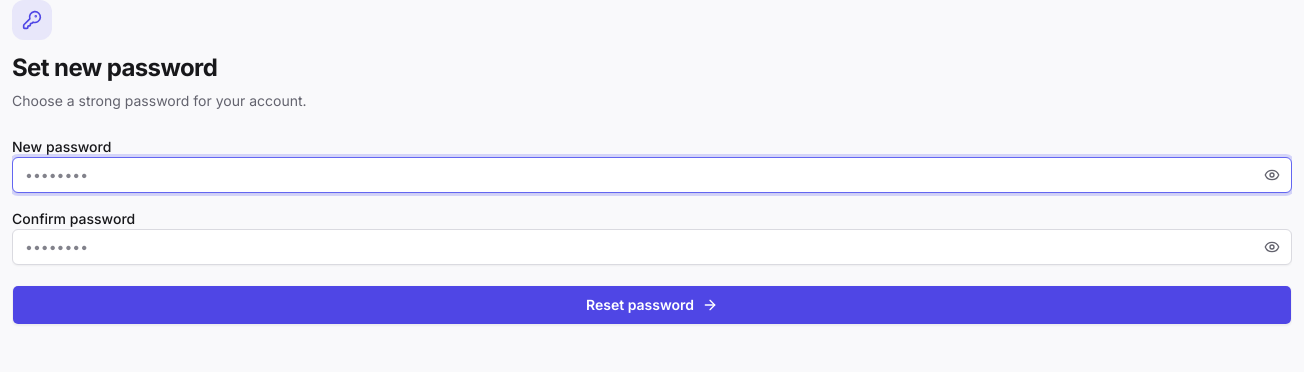
it: ForgotPasswordResetStep Component › should show strength indicator as password is typed
The image size is (1304, 372).
Type "P" into the password field labelled "New password".
click(652, 175); type("P")  # box [12,157,1292,193]
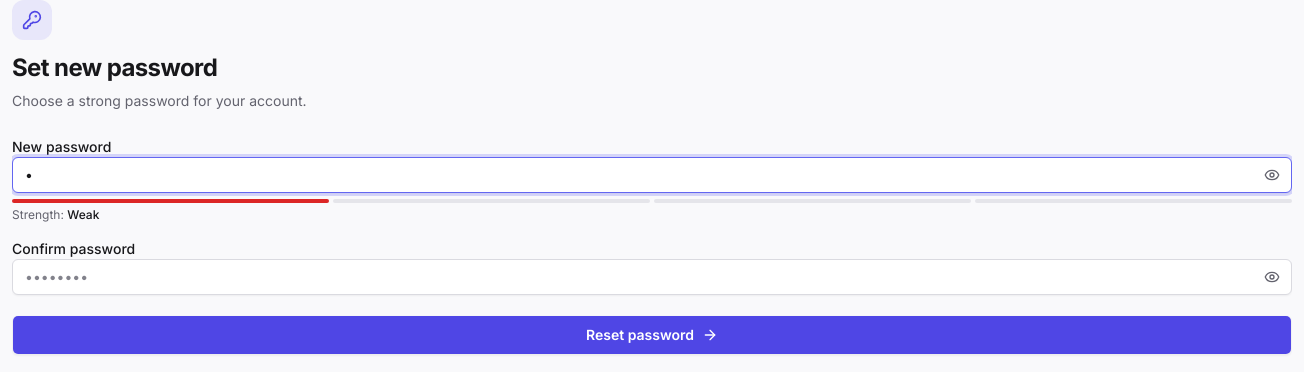
Now the text "Strength: Weak" is shown, box [12,207,99,222]
